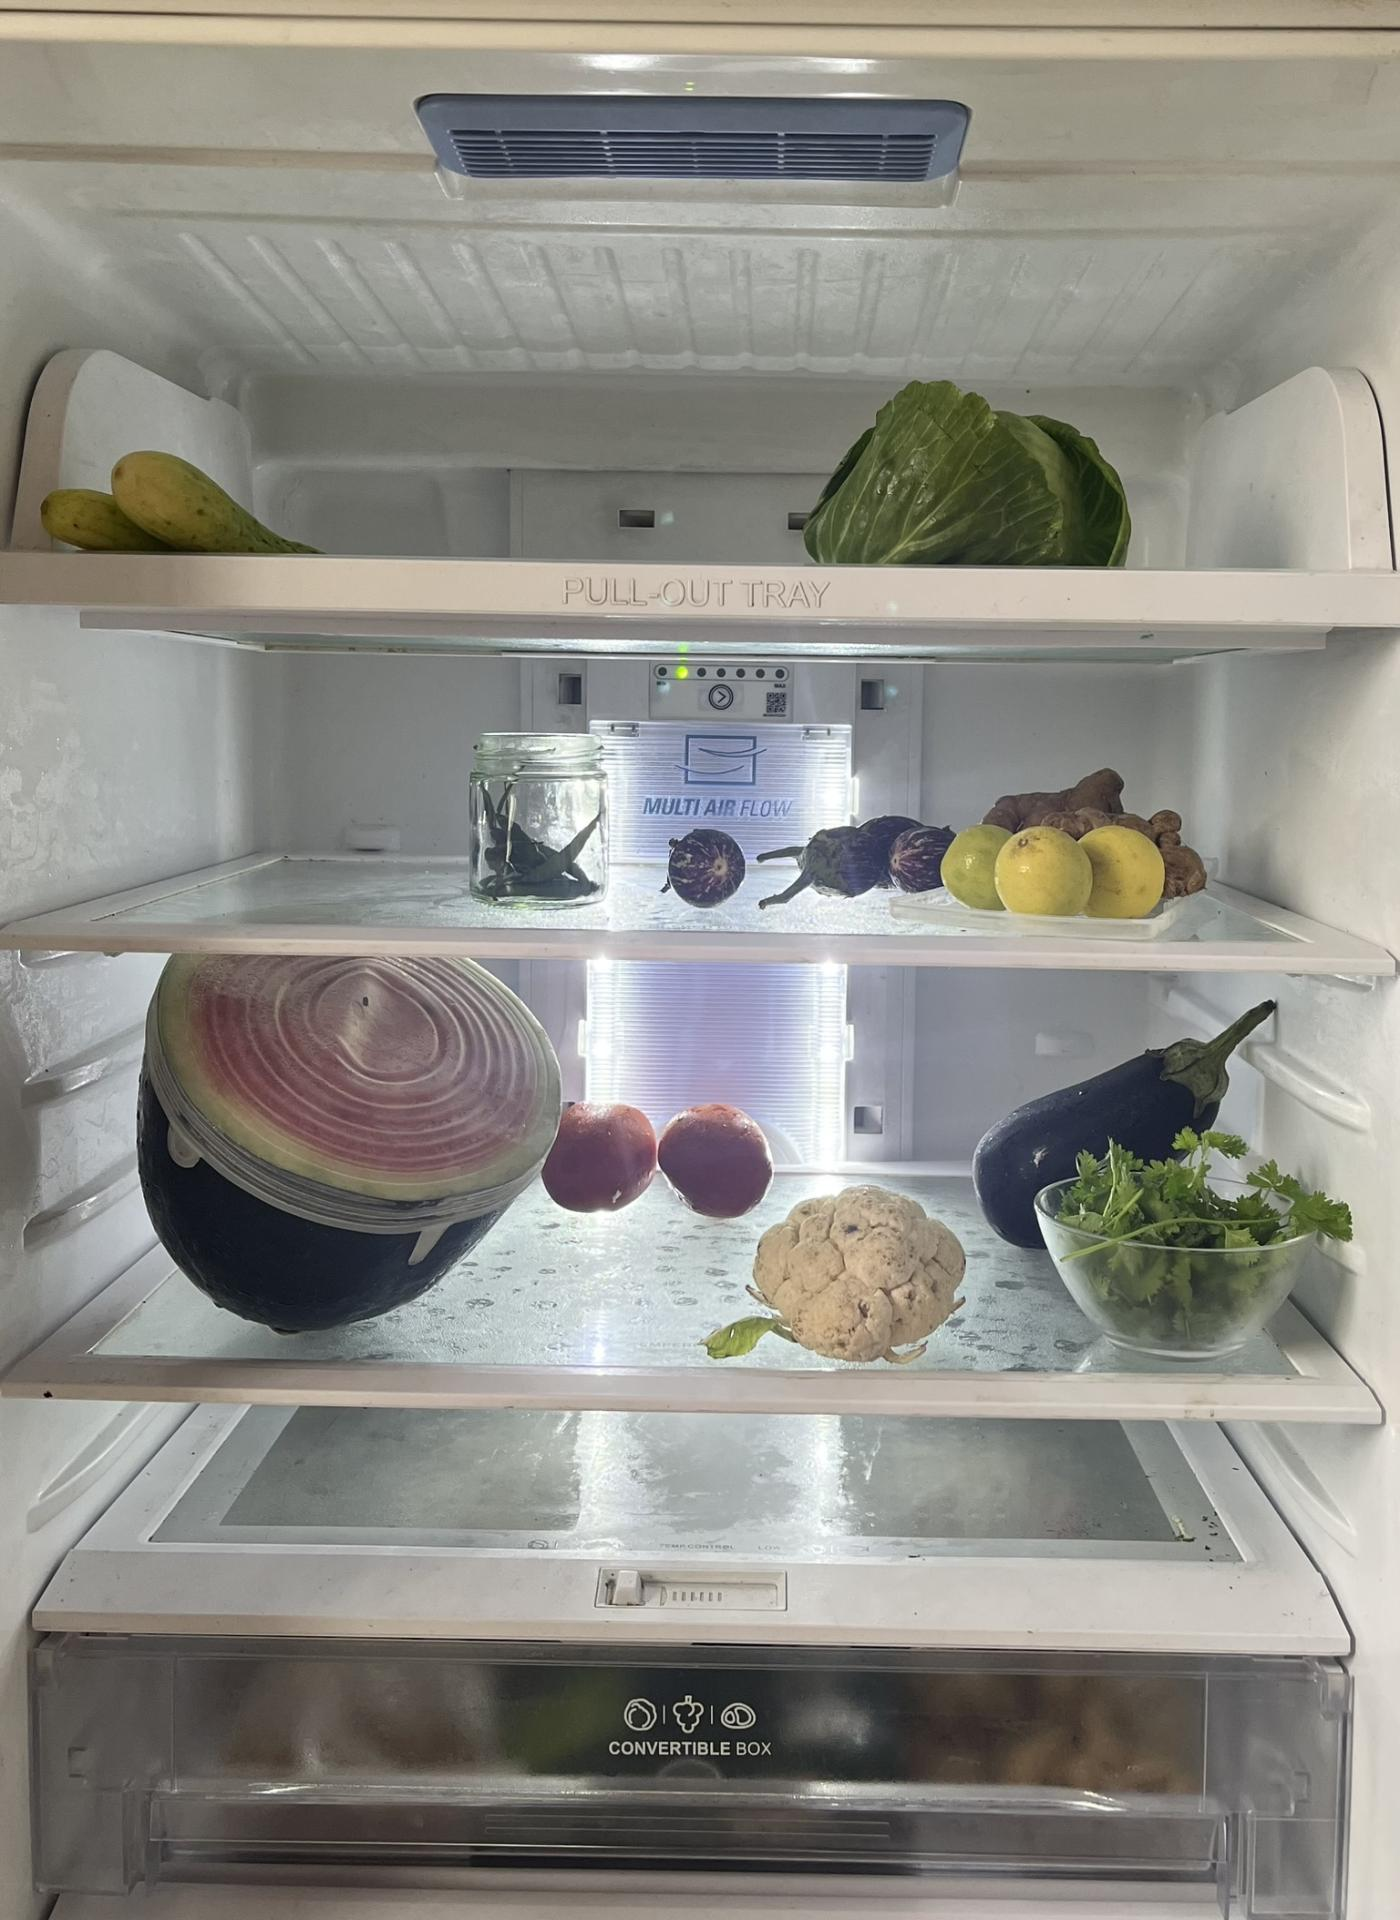cabbage: (787, 368, 1148, 565)
chillies: (468, 756, 611, 897)
cucumber: (40, 450, 325, 550)
tomato: (1036, 1134, 1355, 1354)
watermelon: (137, 950, 574, 1331), (972, 990, 1297, 1243), (735, 1169, 972, 1368), (936, 815, 1173, 926), (656, 1091, 772, 1221), (538, 1088, 653, 1209)
